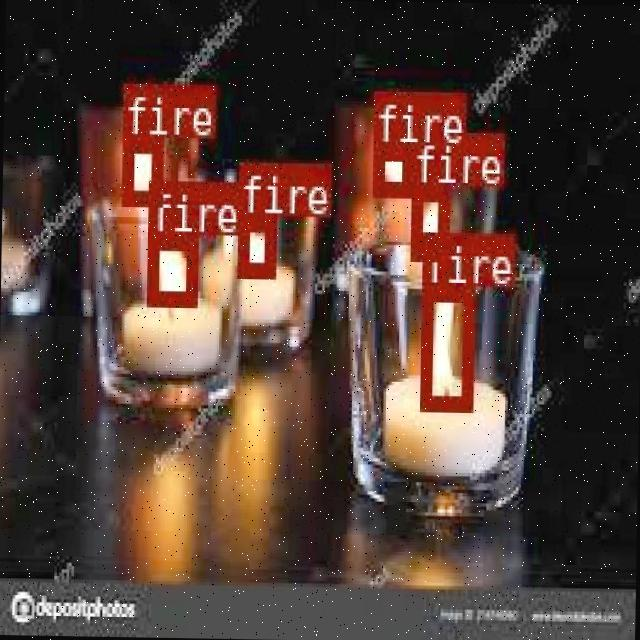fire: (417, 284, 470, 408), (144, 230, 196, 304), (119, 133, 160, 204), (408, 185, 447, 258), (237, 213, 273, 274), (370, 141, 410, 192)
